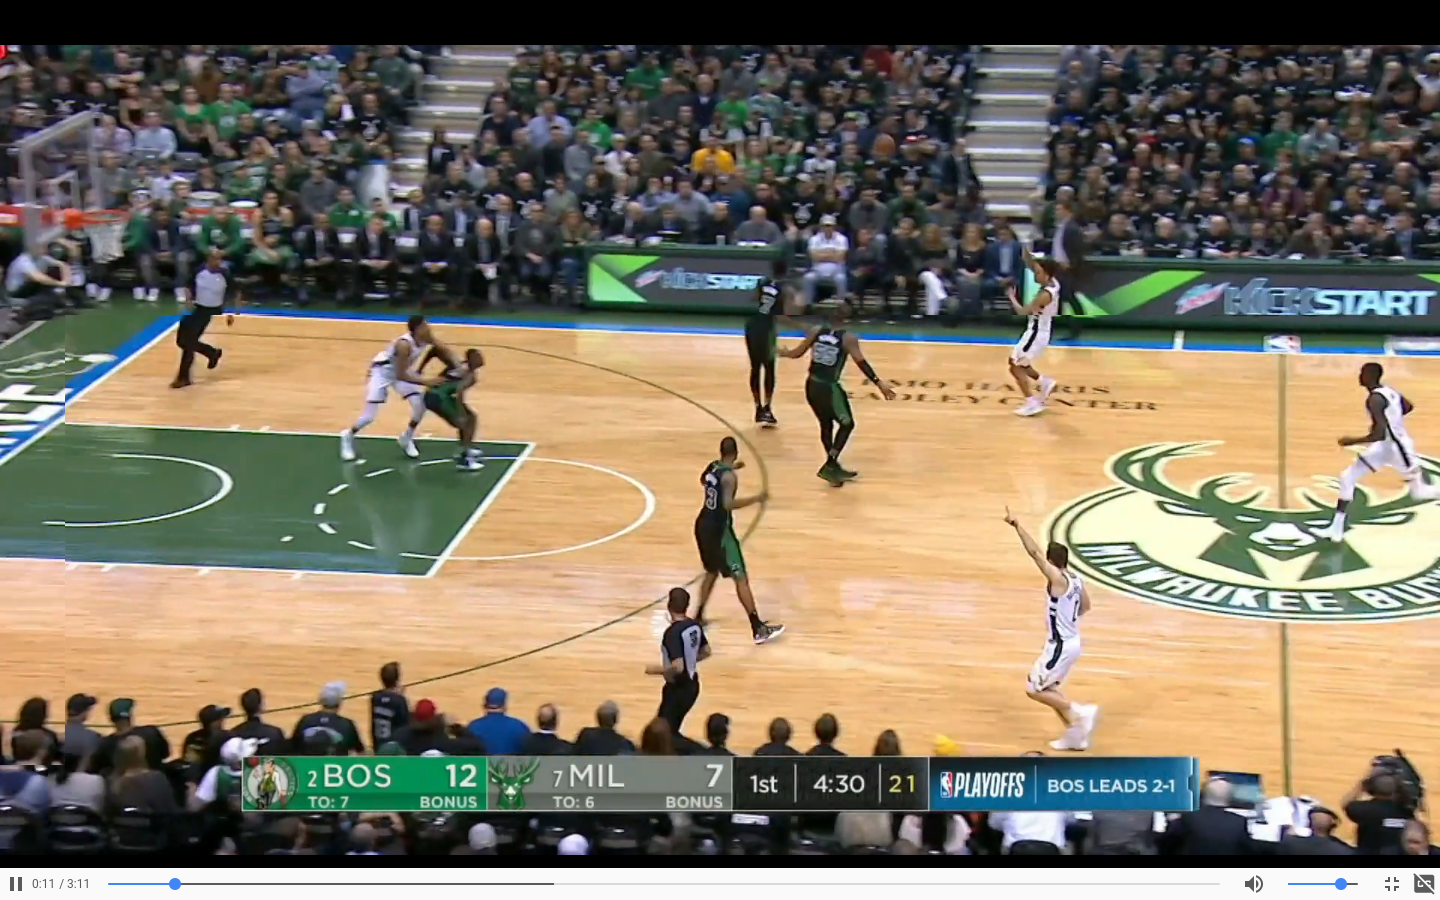basketball player: (1310, 354, 1440, 546), (1004, 506, 1098, 746), (785, 308, 899, 496), (690, 432, 776, 645), (339, 300, 435, 460), (999, 242, 1075, 426), (742, 259, 807, 426), (427, 342, 482, 479)
referee: (644, 574, 716, 739), (167, 236, 241, 389)
